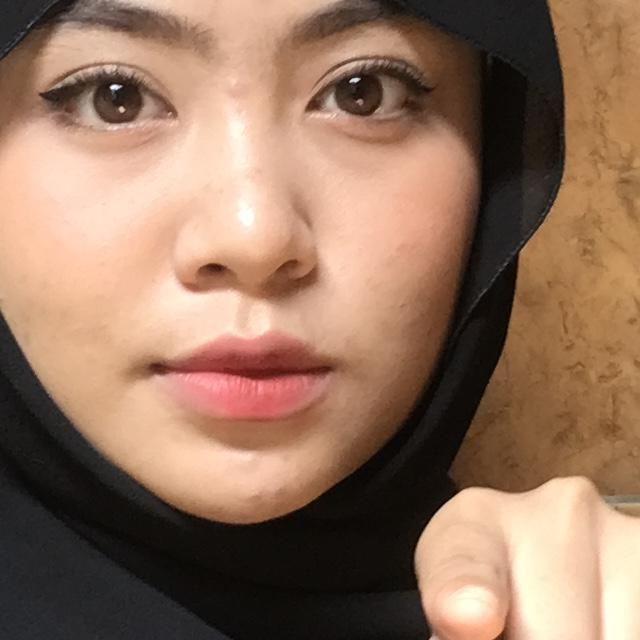kamu: (210, 386, 640, 640)
